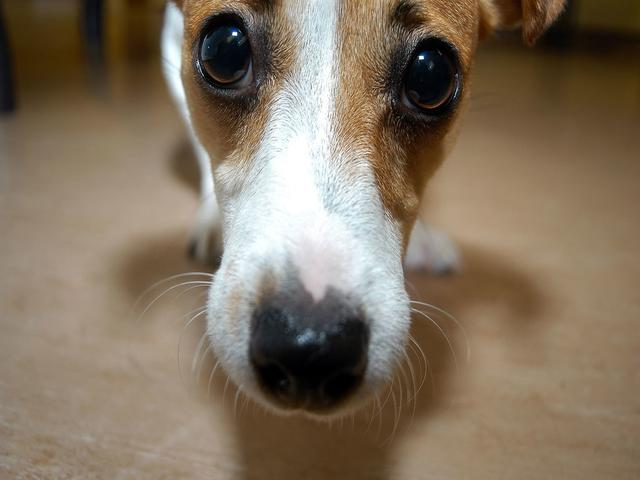dog: (122, 2, 595, 420)
